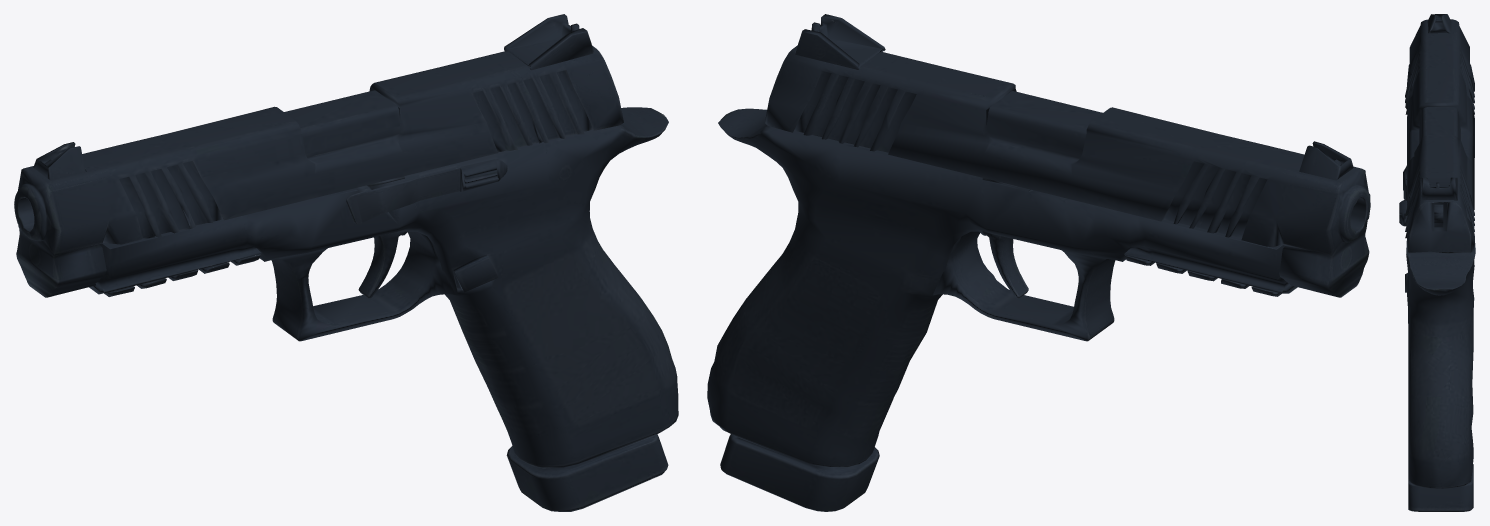
The model's file is wpn_police_pistol.glb.
3 views of the same model, side by side, from view 1: azimuth 30°, elevation 25°; view 2: azimuth 150°, elevation 25°; view 3: azimuth 270°, elevation 25° (orthographic). The views are drawn at different scales.
Size of the model in its own units: 0.957 by 0.6631 by 0.1445.
1 material, 1 textured.
